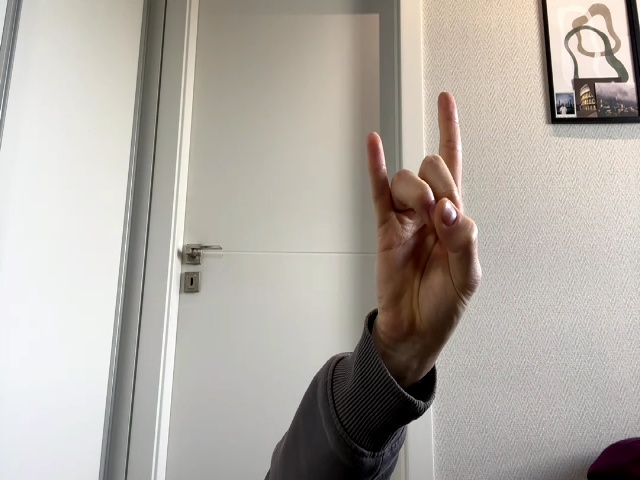Y: (366, 93, 482, 342)
